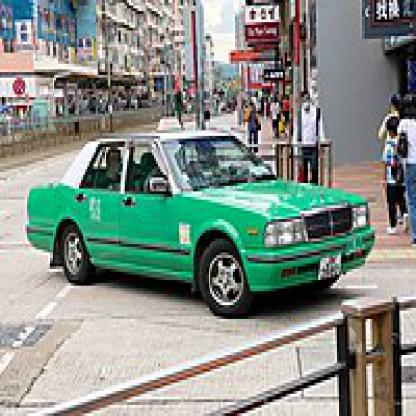taxi: (24, 112, 377, 320)
